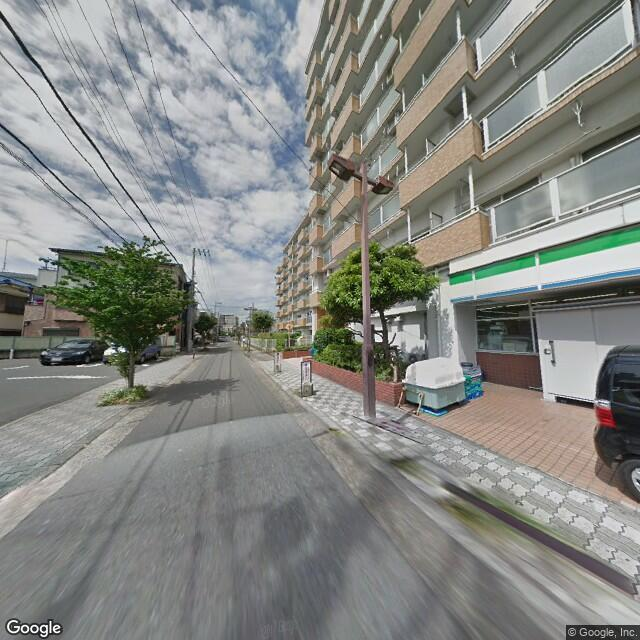family_mart: (451, 222, 639, 303)
